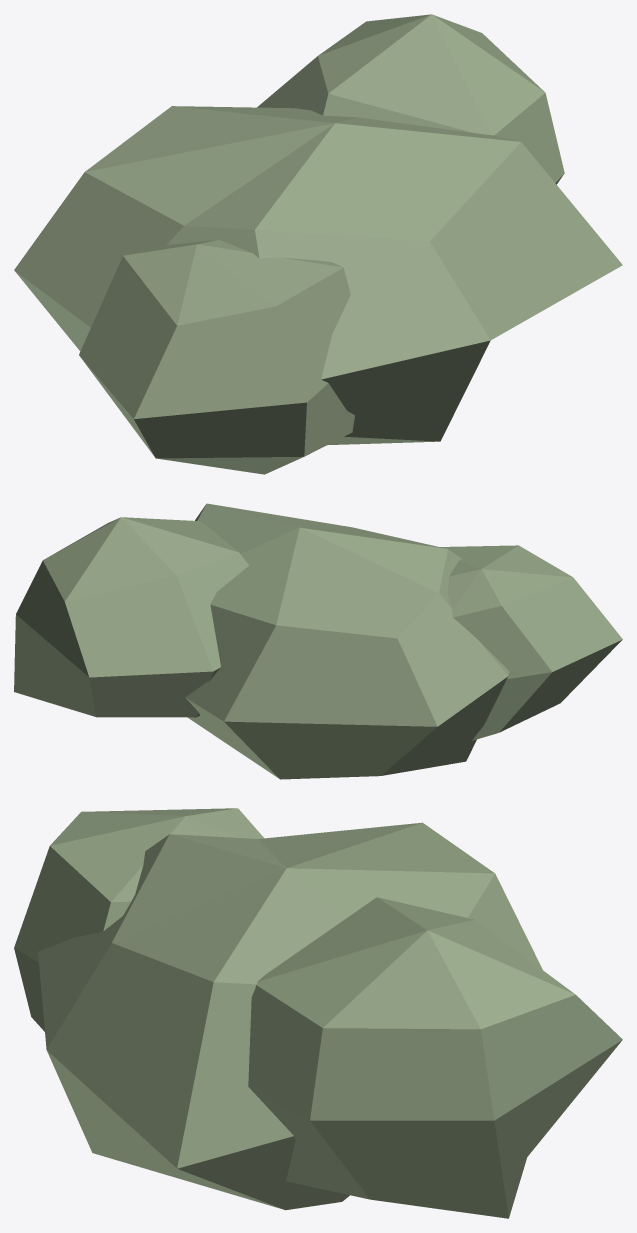
The model's file is sagebrush.glb.
3 views of the same model, one above another, from view 1: azimuth 30°, elevation 25°; view 2: azimuth 150°, elevation 25°; view 3: azimuth 270°, elevation 25° (orthographic). The views are drawn at different scales.
Visible parts, largest first — view 1: sagebrush; view 2: sagebrush; view 3: sagebrush.
Boxes of the visible parts, x1,y1,x2,y2 form: sagebrush: [14, 14, 622, 474]; sagebrush: [14, 503, 622, 779]; sagebrush: [14, 808, 622, 1218].
Size of the model in its own units: 1.69 by 0.9203 by 1.44.
